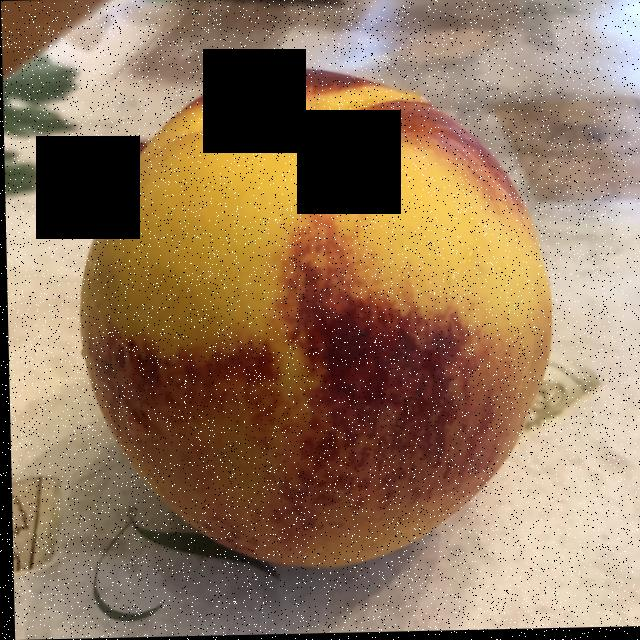nectarine: (86, 80, 542, 560)
